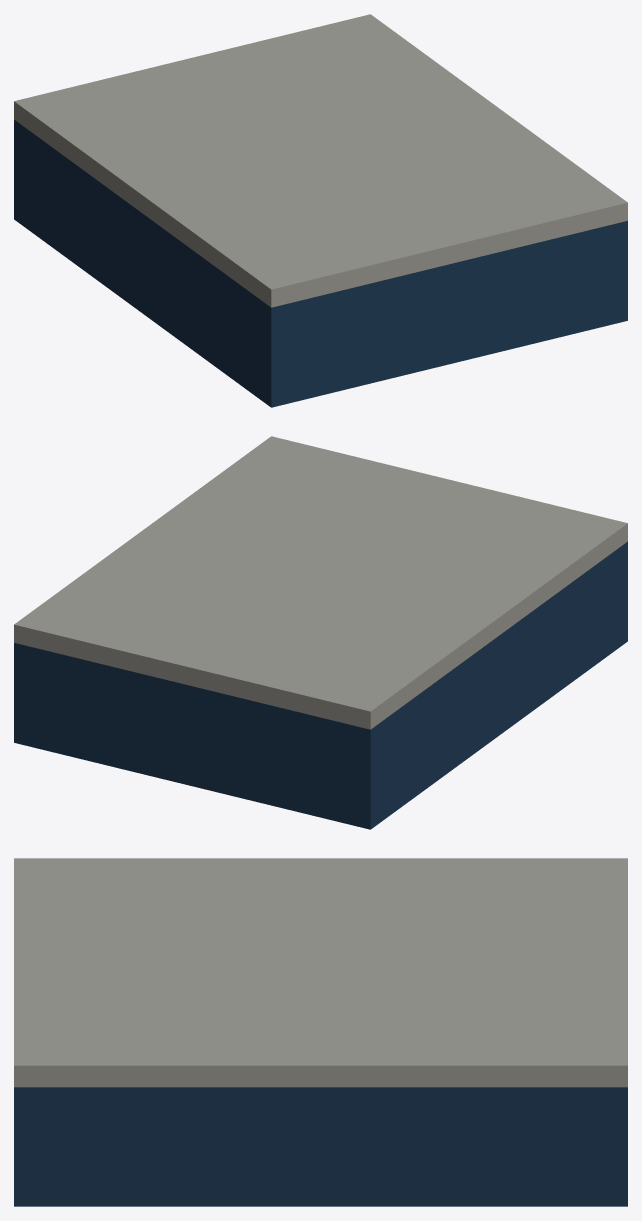
Rendered from far.fbx.
The picture shows the model from 3 angles, top to bottom: view 1: azimuth 30°, elevation 25°; view 2: azimuth 150°, elevation 25°; view 3: azimuth 270°, elevation 25°; orthographic projection. The views are drawn at different scales.
Parts seen in each view (by area): view 1: a2002/800/far; view 2: a2002/800/far; view 3: a2002/800/far.
Boxes of the visible parts, <box> form: a2002/800/far: <box>14,14,627,407</box>; a2002/800/far: <box>14,436,627,829</box>; a2002/800/far: <box>14,858,627,1206</box>.
Bounding box in the file's own units: 12 × 3.8 × 15.
